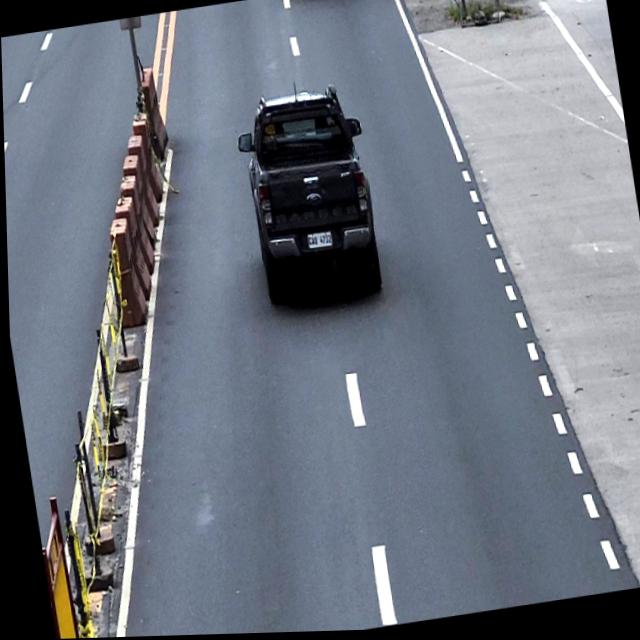Car: (227, 80, 387, 320)
License-Plate: (303, 230, 333, 251)
